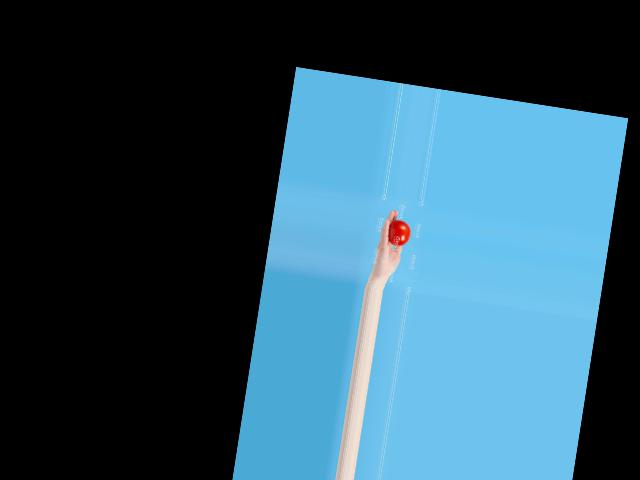tomato: (386, 219, 412, 247)
